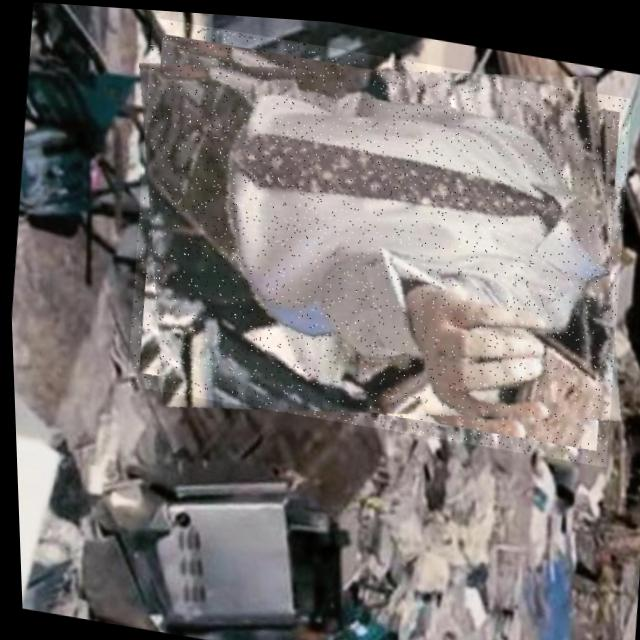Person in Rubble: (112, 12, 640, 460)
